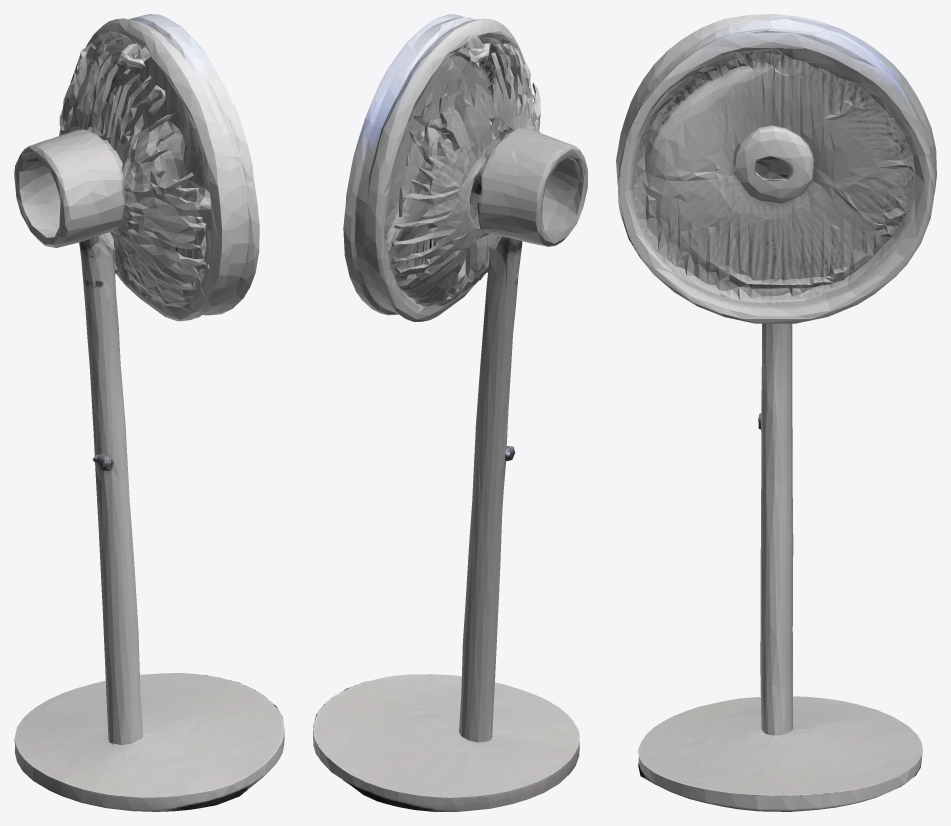
The model's file is ast_ff3bb7d4a5ec.glb.
The picture shows the model from 3 angles, left to right: view 1: azimuth 30°, elevation 25°; view 2: azimuth 150°, elevation 25°; view 3: azimuth 270°, elevation 25°; orthographic projection. The views are drawn at different scales.
Visible parts, largest first — view 1: geometry_0; view 2: geometry_0; view 3: geometry_0.
Part boxes in pixels (x1,y1,x2,y2): geometry_0: [14, 14, 284, 811]; geometry_0: [313, 14, 587, 811]; geometry_0: [616, 14, 936, 811].
Size of the model in its own units: 0.3301 by 0.9988 by 0.3859.
Materials: 1 (1 with a texture image).
